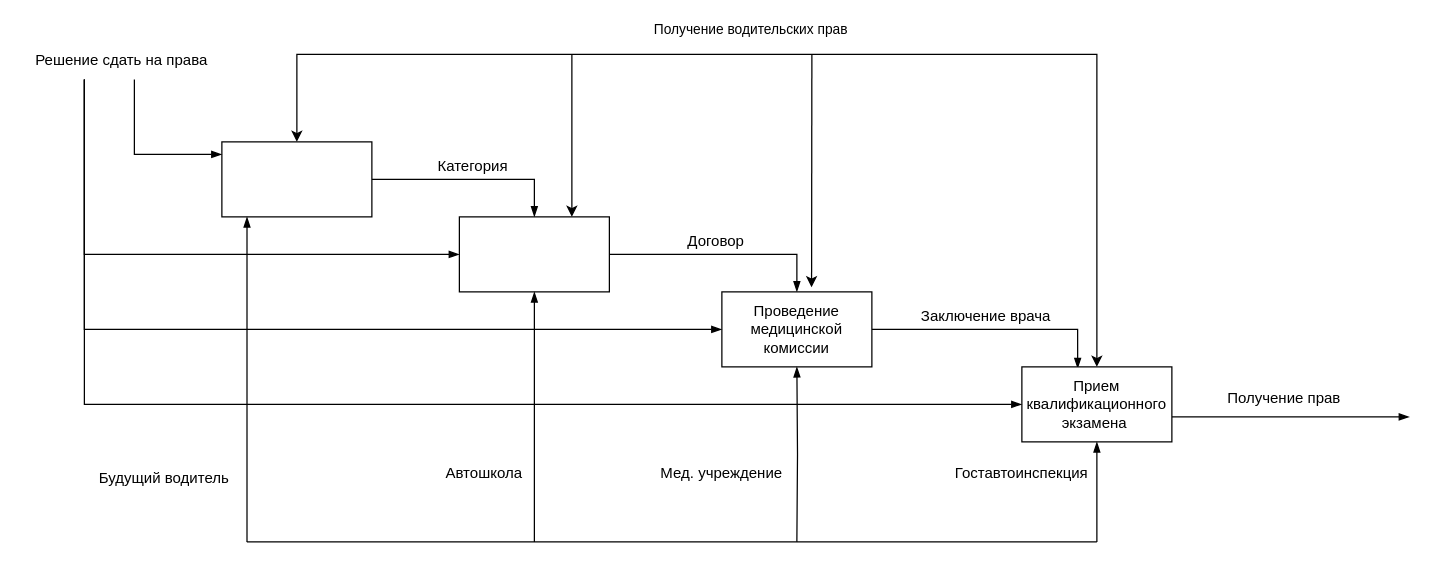
The diagram is 1441 pixels wide and 574 high, and some of its shapes have lost their labels. The box of each missing label's shape, as (x1, y1, x2, y2) in pixels:
Выбор категории прав: (221, 141, 372, 217)
Заключение договора: (458, 216, 609, 292)
